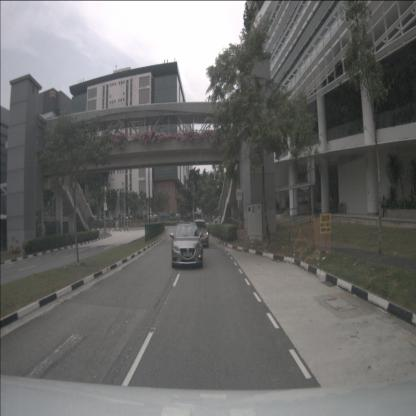human-pedestrian-adult: (381, 194, 387, 218)
vehicle-bicycle: (9, 236, 21, 254)
vehicle-car: (172, 223, 203, 268), (193, 220, 208, 247), (222, 218, 244, 231), (213, 216, 226, 224), (147, 212, 158, 220), (168, 213, 179, 221), (160, 212, 170, 220), (104, 216, 114, 223), (94, 216, 102, 224), (136, 213, 145, 220), (126, 214, 134, 221)
